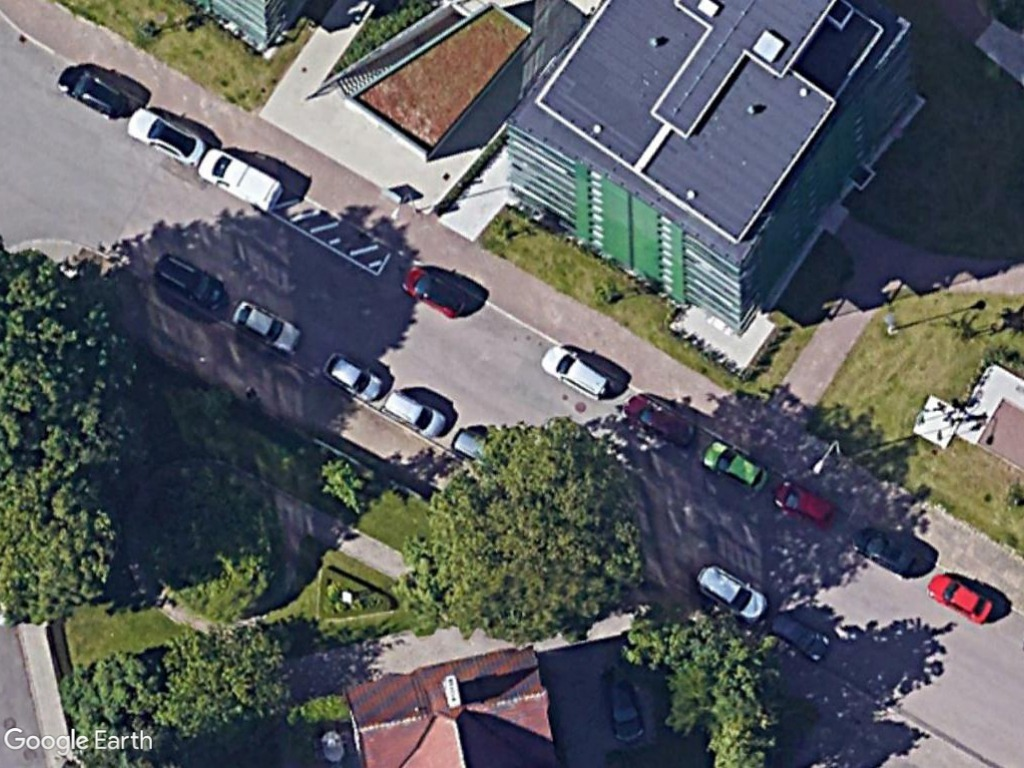car: (225, 290, 306, 360), (535, 340, 620, 406), (148, 251, 231, 318), (693, 558, 771, 627), (128, 103, 209, 169), (921, 563, 997, 629), (850, 520, 925, 582), (700, 435, 771, 499), (55, 62, 132, 121), (399, 262, 470, 322), (773, 473, 841, 535), (320, 345, 385, 406), (383, 384, 448, 441)
van: (198, 142, 286, 215)
